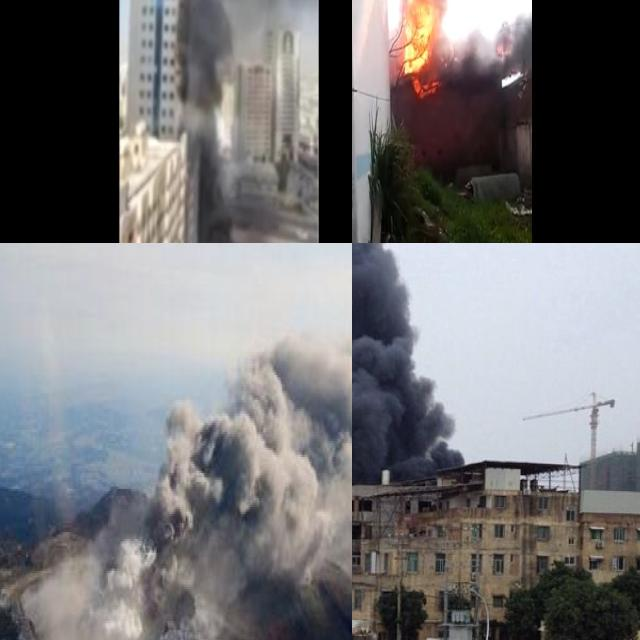fire: (400, 0, 438, 79)
smoke: (37, 330, 352, 640), (181, 0, 315, 243), (352, 243, 460, 511)
